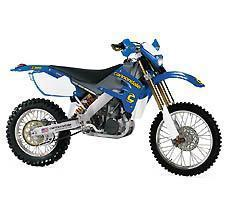motorcycle: (4, 32, 230, 183)
